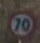limite 70: (6, 10, 36, 39)
